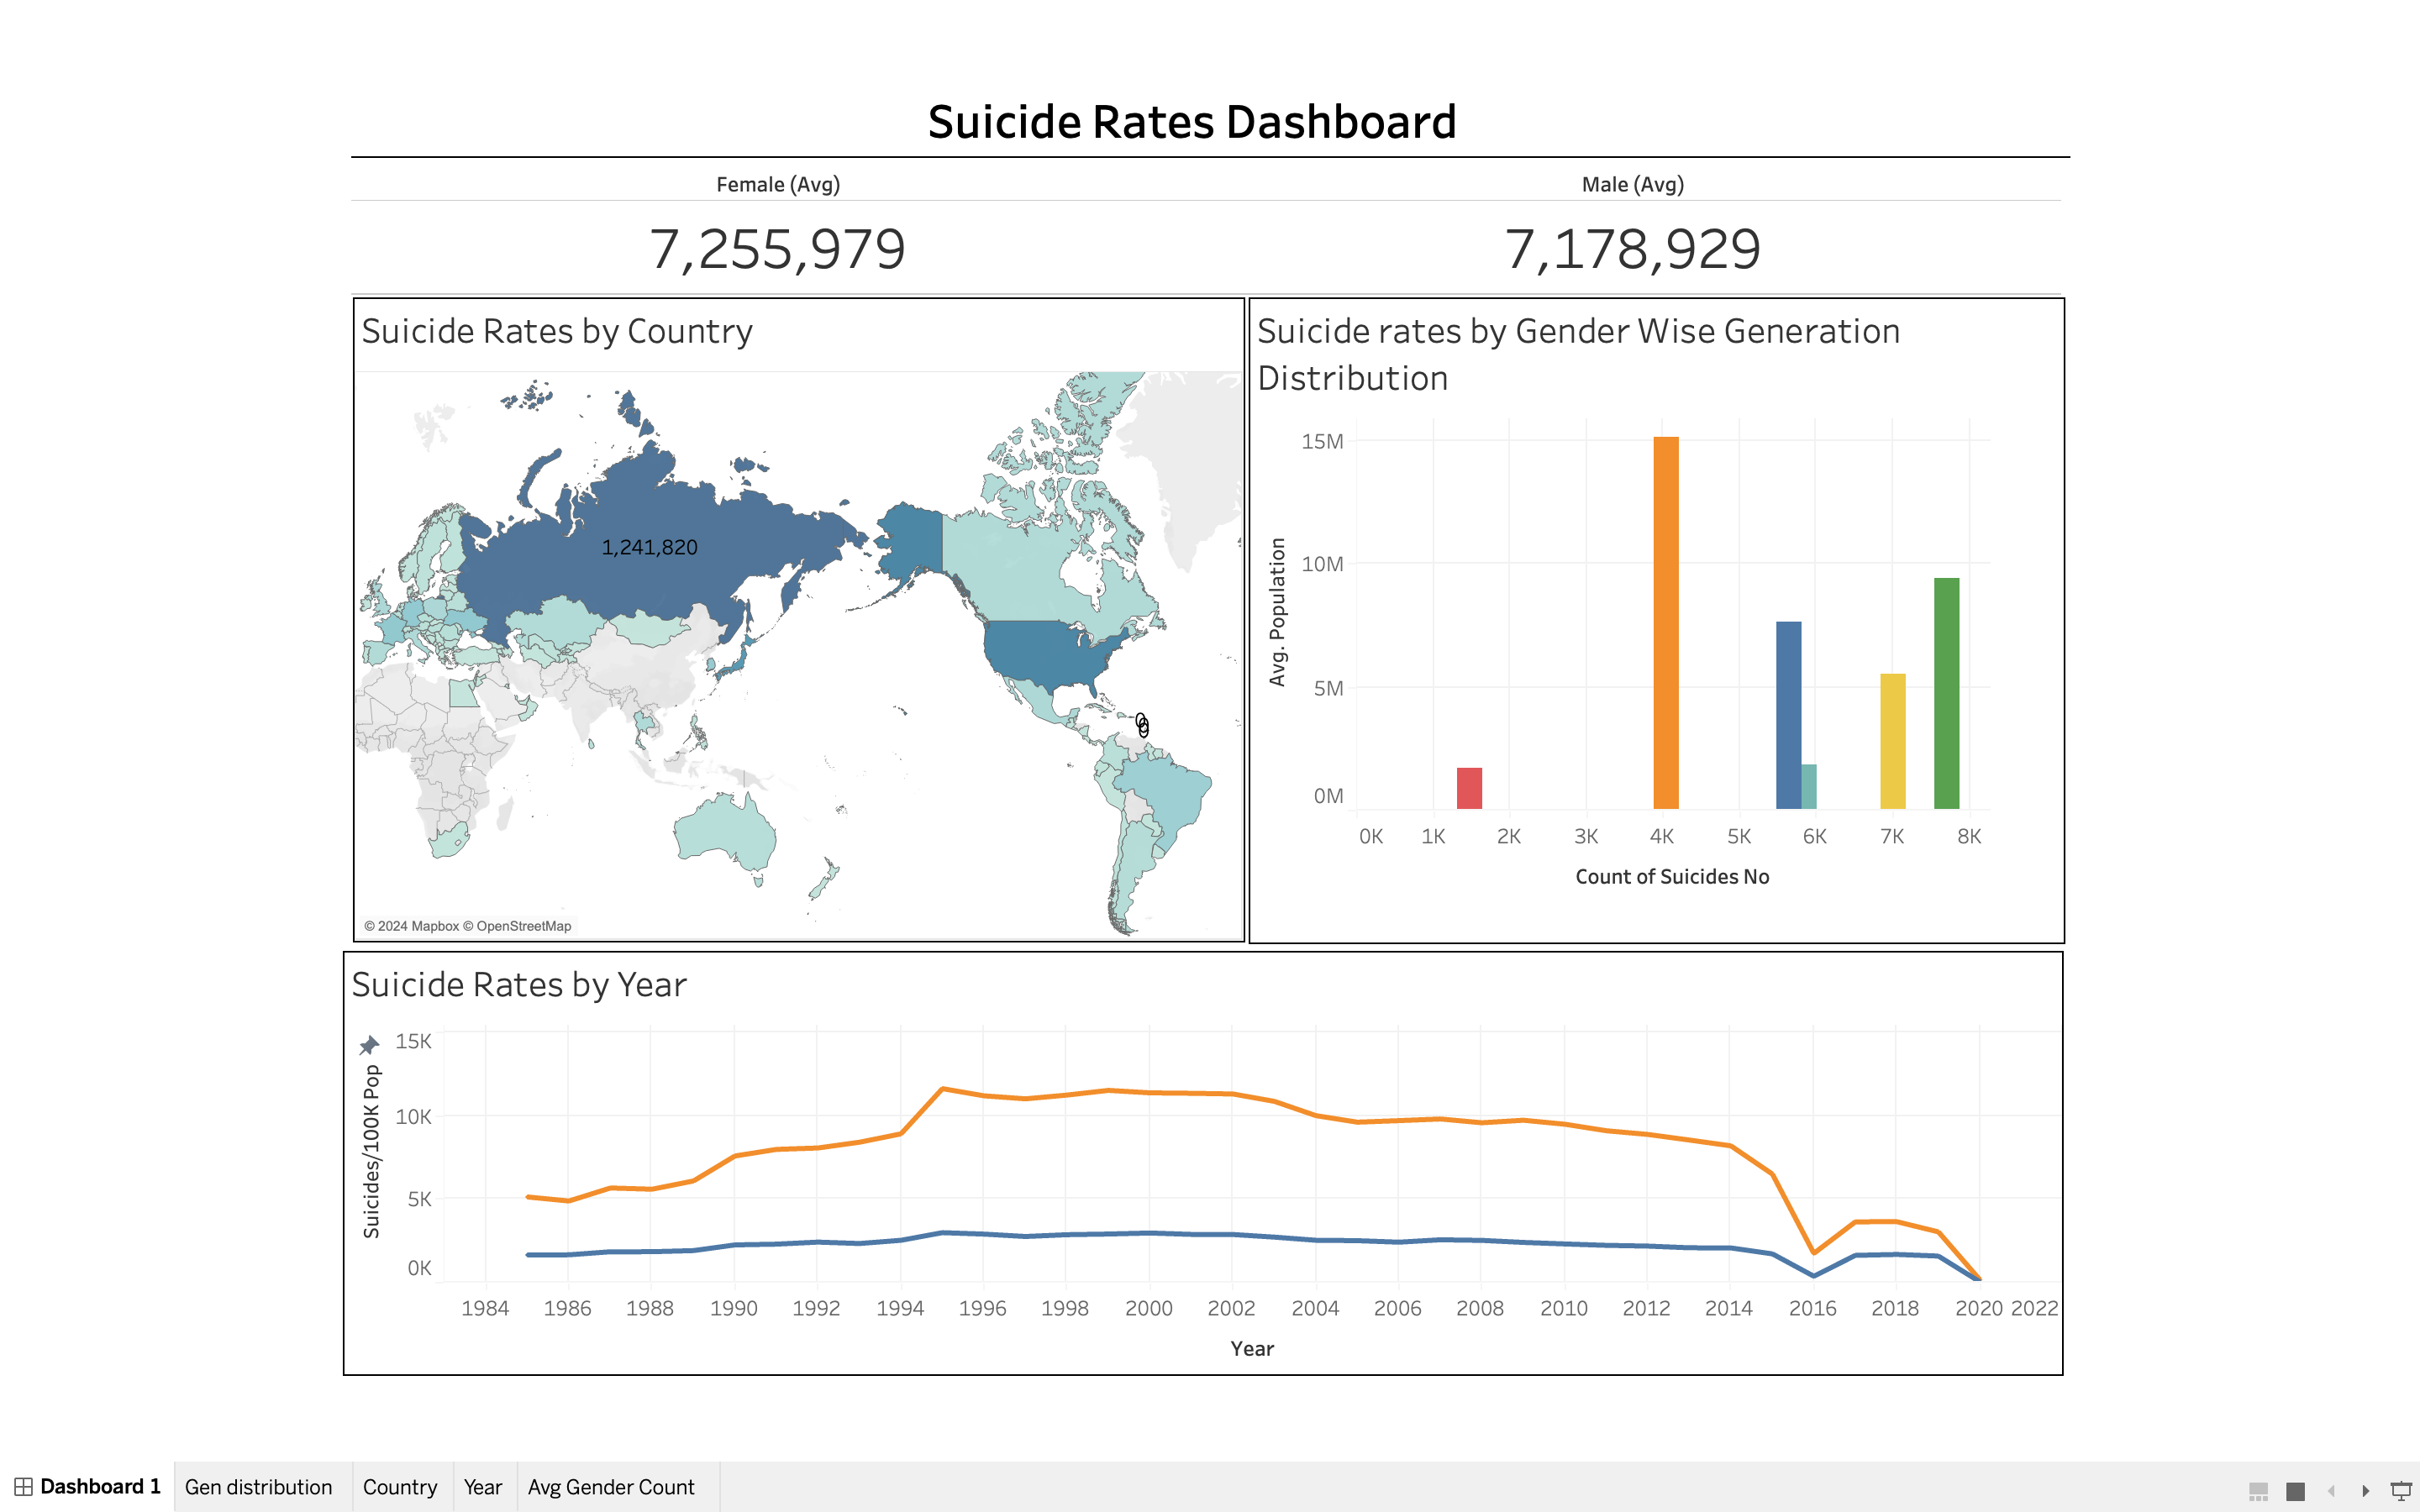

What the dashboard file says about the page in this screenshot:
{"tool":"tableau","page":{"name":"Dashboard 1","canvas":[1024,768],"ordinal":0},"visuals":[{"type":"blank","box":[1,42,1023,1]},{"type":"worksheet","title":"Avg Gender Count ","mark":"Automatic","cols":["sex"],"box":[1,48,1018,77]},{"type":"worksheet","title":"Country","mark":"Automatic","box":[2,126,531,384]},{"type":"worksheet","title":"Gen distribution","mark":"Bar","rows":["population"],"cols":["suicides_no"],"box":[535,126,486,385]}]}

Visuals, with their boxes on the page's 1024x768 design canvas (x1, y1, x2, y2). These are canvas units, not pixel positions in the 2420x1512 screenshot, which may show the page scaled, cropped or inside an application window:
blank: [1, 42, 1024, 43]
"Avg Gender Count " worksheet: [1, 48, 1019, 125]
"Country" worksheet: [2, 126, 533, 510]
"Gen distribution" worksheet (Bar marks): [535, 126, 1021, 511]
